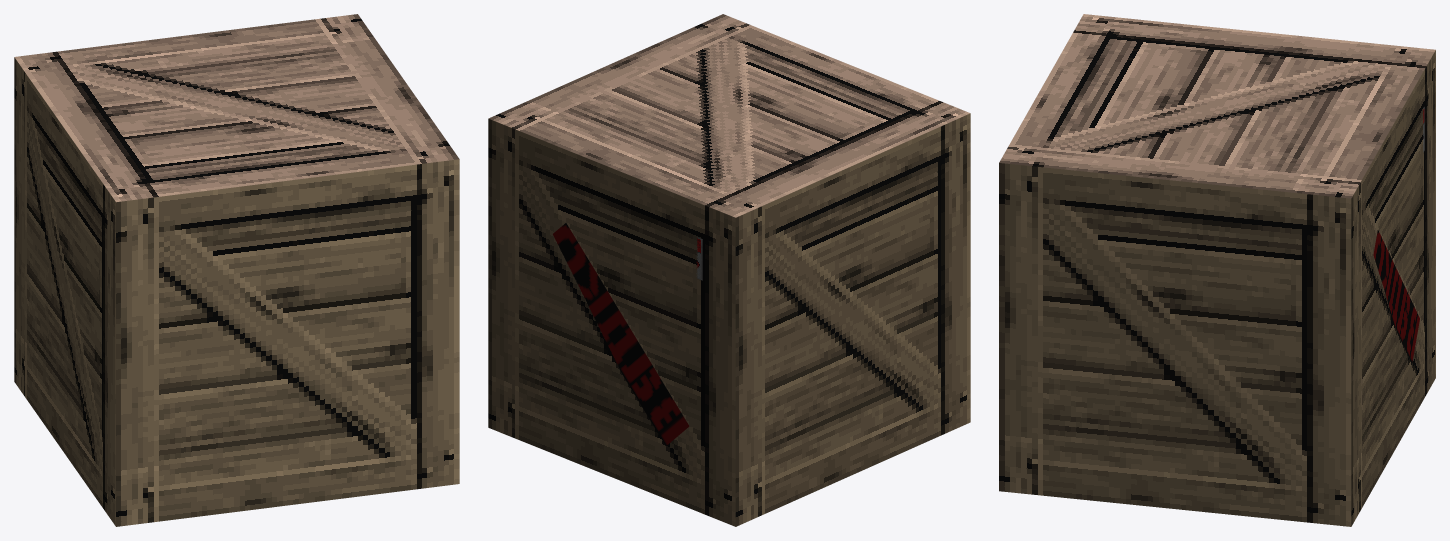
The model's file is primary_119.glb.
3 renders of one model, left to right at view 1: azimuth 30°, elevation 25°; view 2: azimuth 150°, elevation 25°; view 3: azimuth 270°, elevation 25°, orthographic. The views are drawn at different scales.
Parts seen in each view (by area): view 1: Object; view 2: Object; view 3: Object.
Part boxes in pixels (<box>): Object: <box>14,14,459,526</box>; Object: <box>488,14,970,526</box>; Object: <box>999,14,1435,526</box>.
Size of the model in its own units: 1.15 by 0.9499 by 1.15.
Materials: 7 (7 with a texture image).
